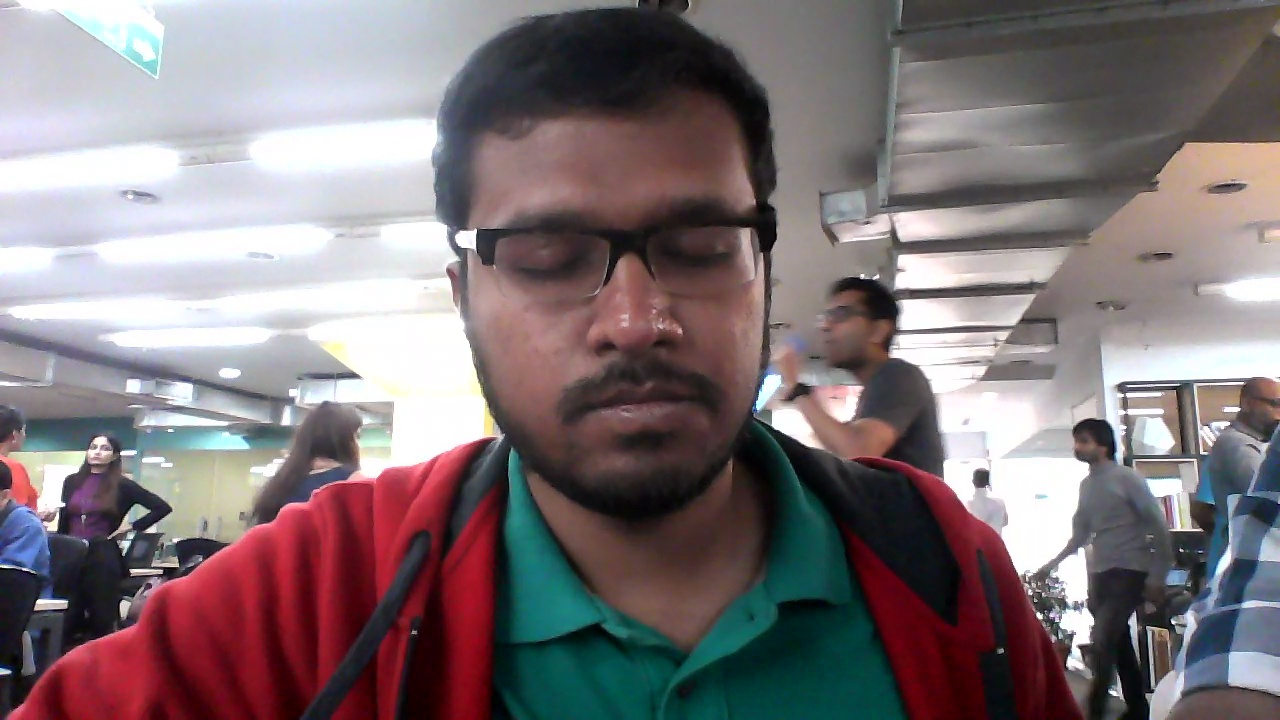closed: (458, 41, 766, 502)
